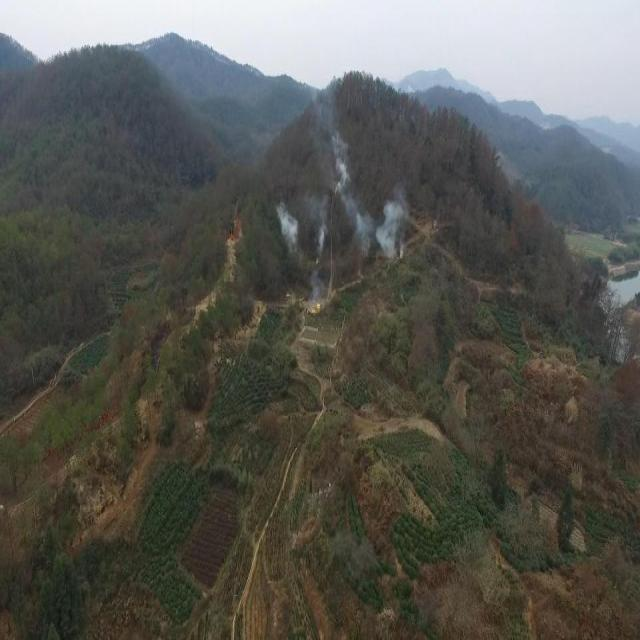Smoke: (273, 70, 410, 300)
